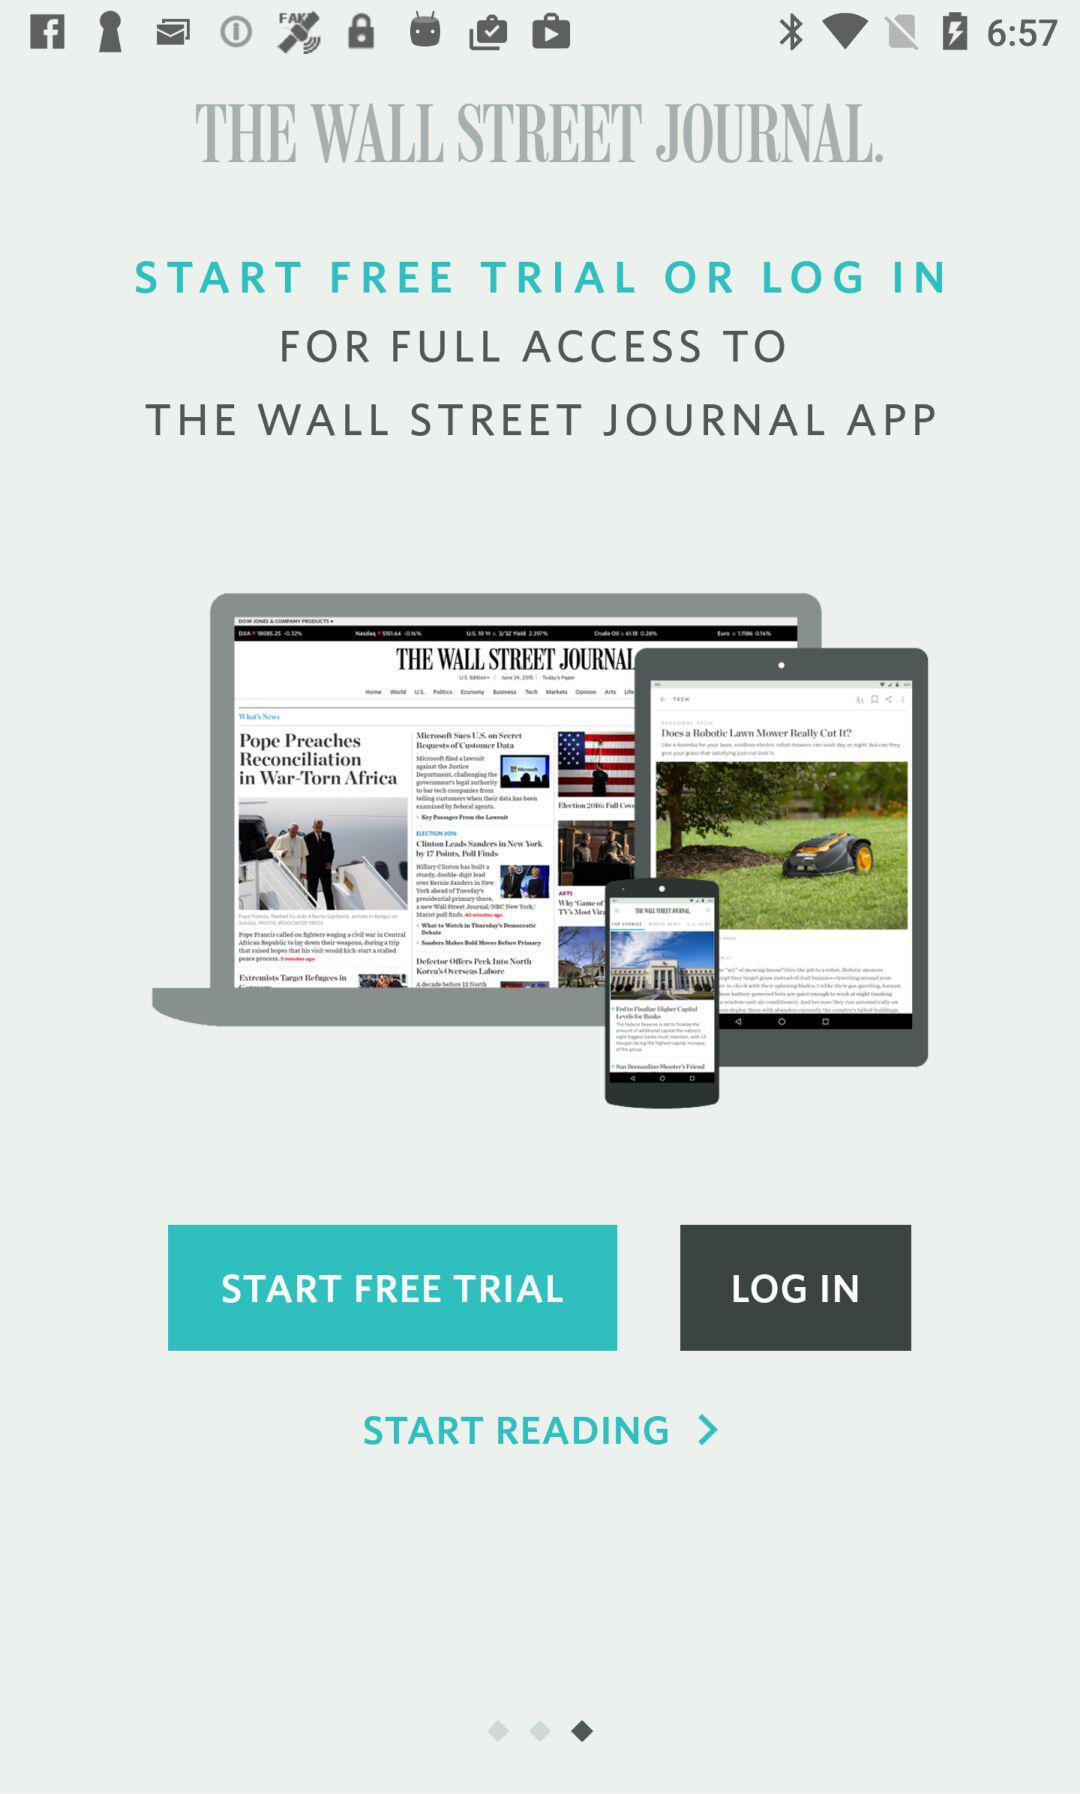Icon: (698, 1413, 719, 1445)
Image: (152, 593, 930, 1110)
PageIndicator: (486, 1718, 594, 1743)
Text: (196, 103, 884, 165), (135, 260, 944, 296), (145, 402, 937, 438), (281, 329, 787, 364), (363, 1415, 669, 1445)
TextButton: (168, 1224, 618, 1352), (680, 1224, 912, 1352)
UpperTaskBar: (1, 1, 1080, 56)
